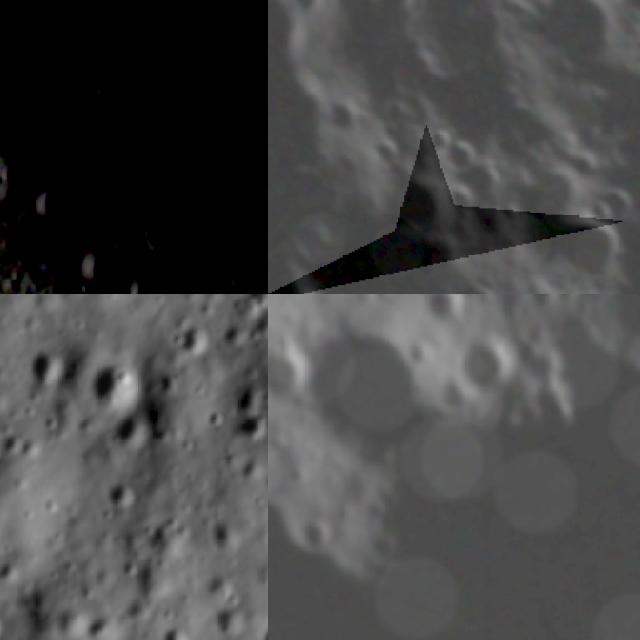crater: (307, 307, 458, 453), (520, 0, 639, 85), (530, 195, 632, 294), (435, 150, 519, 217), (156, 128, 228, 199), (458, 330, 526, 397), (134, 210, 189, 274), (268, 332, 313, 409), (428, 129, 488, 180), (24, 182, 80, 235), (433, 262, 520, 294), (156, 319, 214, 361), (229, 386, 268, 440), (298, 509, 345, 553), (414, 118, 459, 158), (426, 294, 469, 335), (97, 367, 139, 407), (89, 180, 129, 220), (235, 152, 268, 191), (217, 597, 249, 631), (107, 475, 136, 510), (114, 416, 148, 444), (553, 294, 593, 314), (526, 294, 563, 315), (35, 352, 61, 381), (89, 610, 113, 640), (75, 275, 102, 294), (152, 630, 191, 640), (372, 294, 403, 305)
